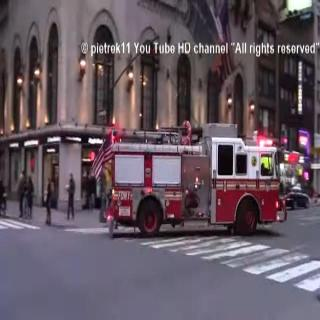Fire_truck: (103, 120, 288, 238)
